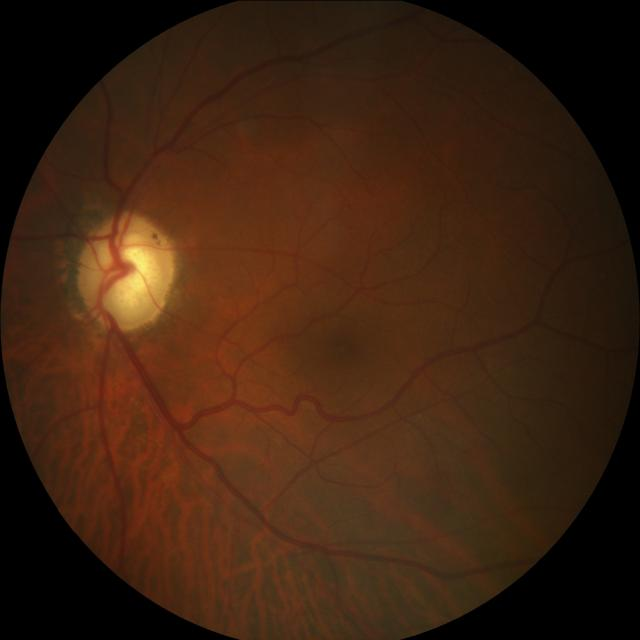OC: (103, 236, 150, 296)
OD: (77, 211, 177, 329)
